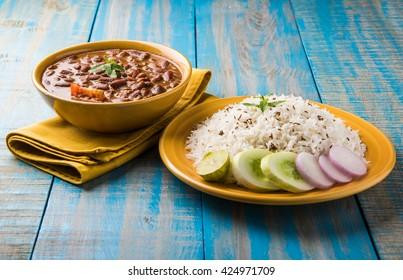rajma: (51, 54, 178, 99)
rice: (214, 98, 359, 148)
